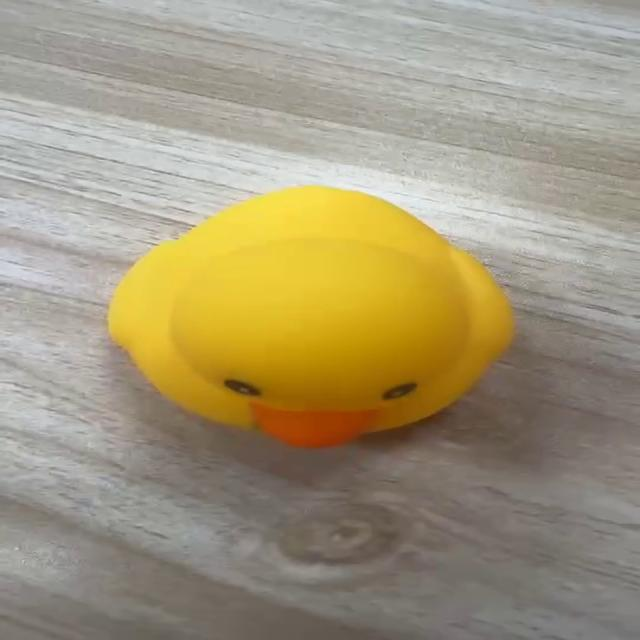yellow_duck: (104, 183, 516, 450)
